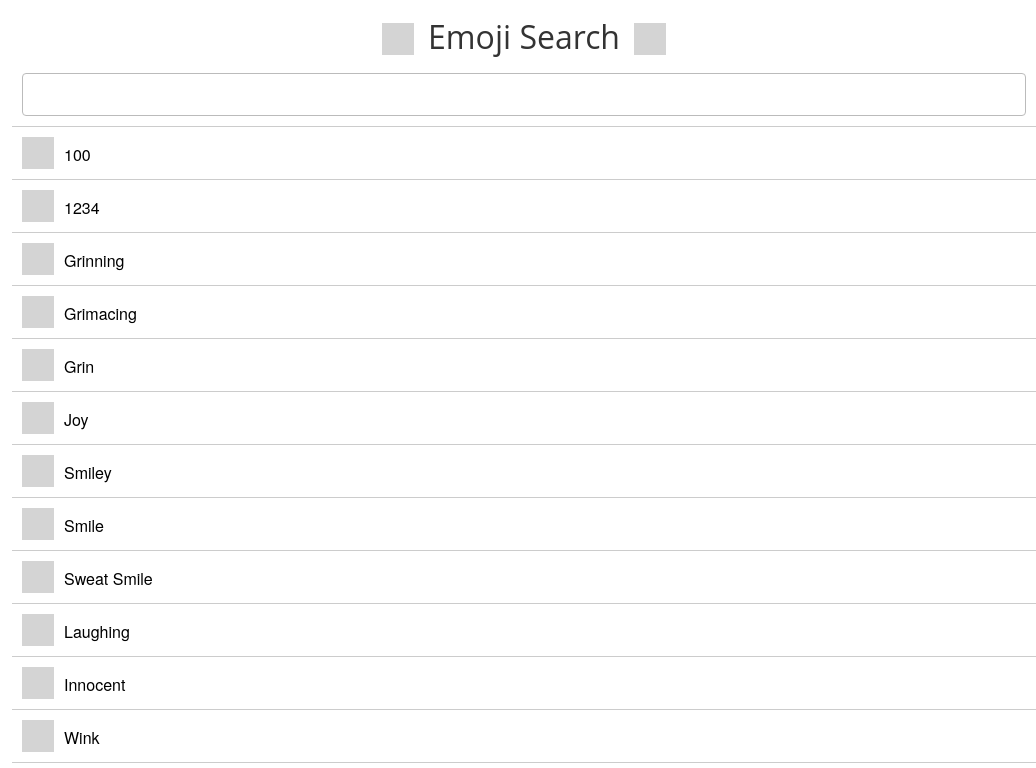
Test: my first e2e test › shows a 'emoji nor found' message
The image size is (1036, 768).
Type "emoji that does exist" into the field with test id "emoji-search-input" at (524, 95), box x1=22 y1=73 x2=1026 y2=116
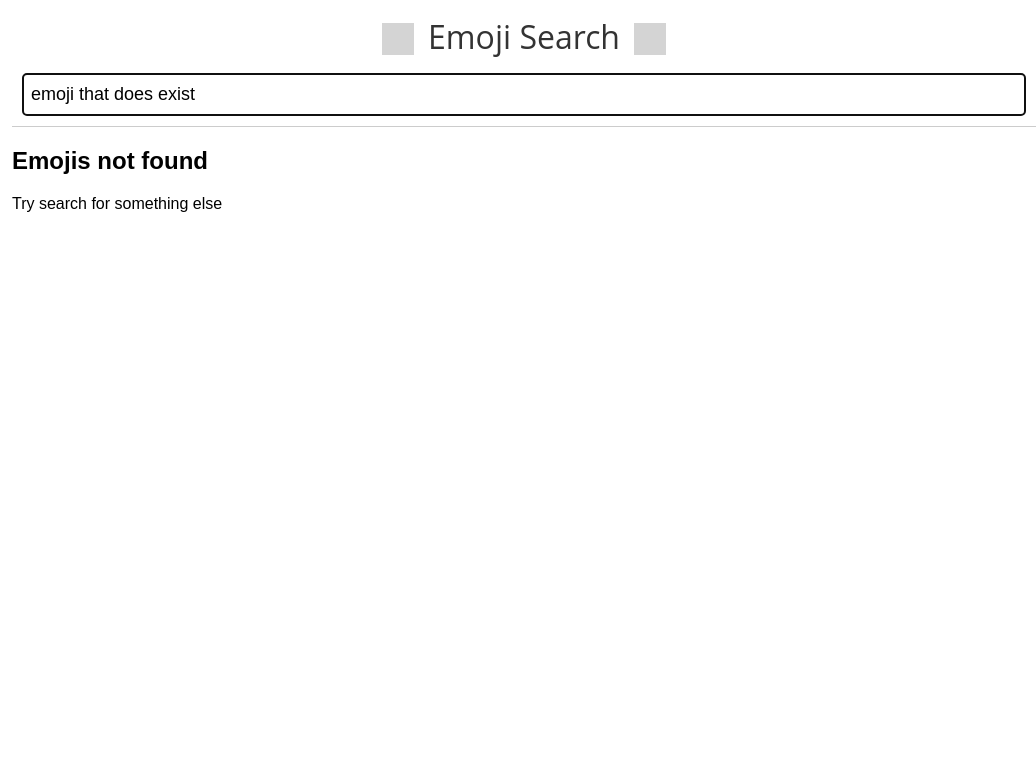
Check: no elements with test id "emoji-row" are shown
Check: the heading "Emojis not found" is shown, box x1=12 y1=147 x2=208 y2=174
Check: the text "Try search for something else" is shown, box x1=12 y1=195 x2=222 y2=212
